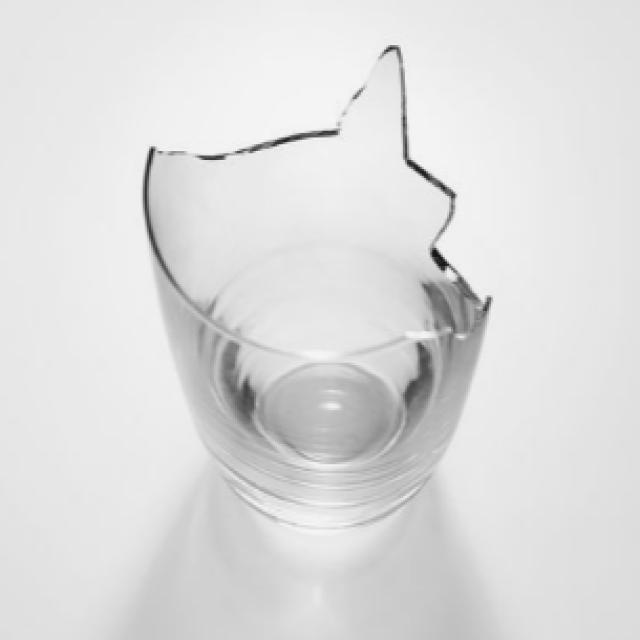PecahanKaca: (139, 42, 493, 530)
